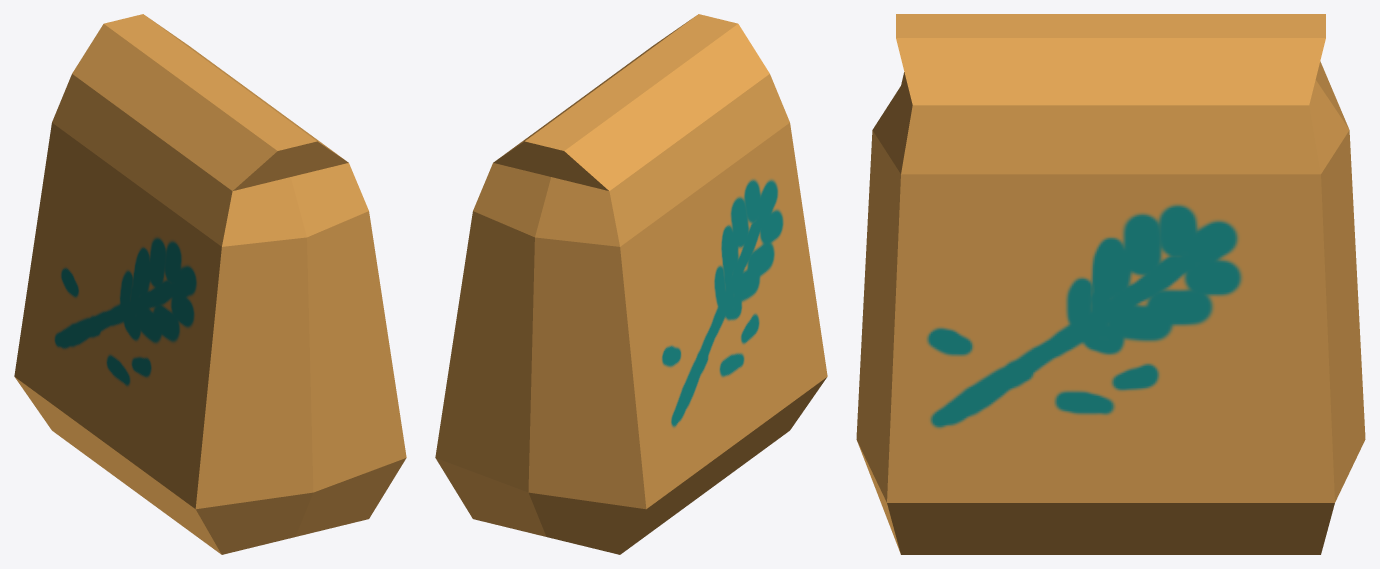
The model's file is seedbag.obj.
3 views of the same model, side by side, from view 1: azimuth 30°, elevation 25°; view 2: azimuth 150°, elevation 25°; view 3: azimuth 270°, elevation 25° (orthographic). The views are drawn at different scales.
Visible parts, largest first — view 1: Cube_Cube.001; view 2: Cube_Cube.001; view 3: Cube_Cube.001.
Boxes of the visible parts, x1,y1,x2,y2 form: Cube_Cube.001: (14, 14, 406, 554); Cube_Cube.001: (435, 14, 827, 554); Cube_Cube.001: (856, 14, 1365, 554).
Bounding box in the file's own units: 1.43 × 2.55 × 2.42.
